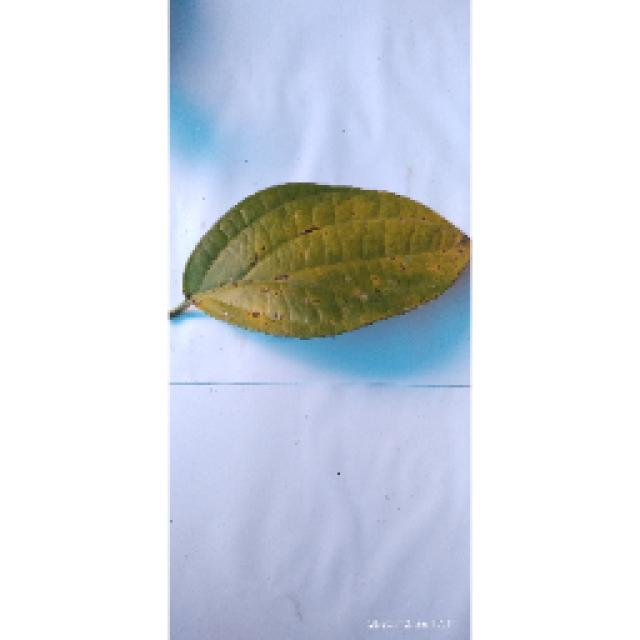slow-decline: (168, 178, 470, 340)
